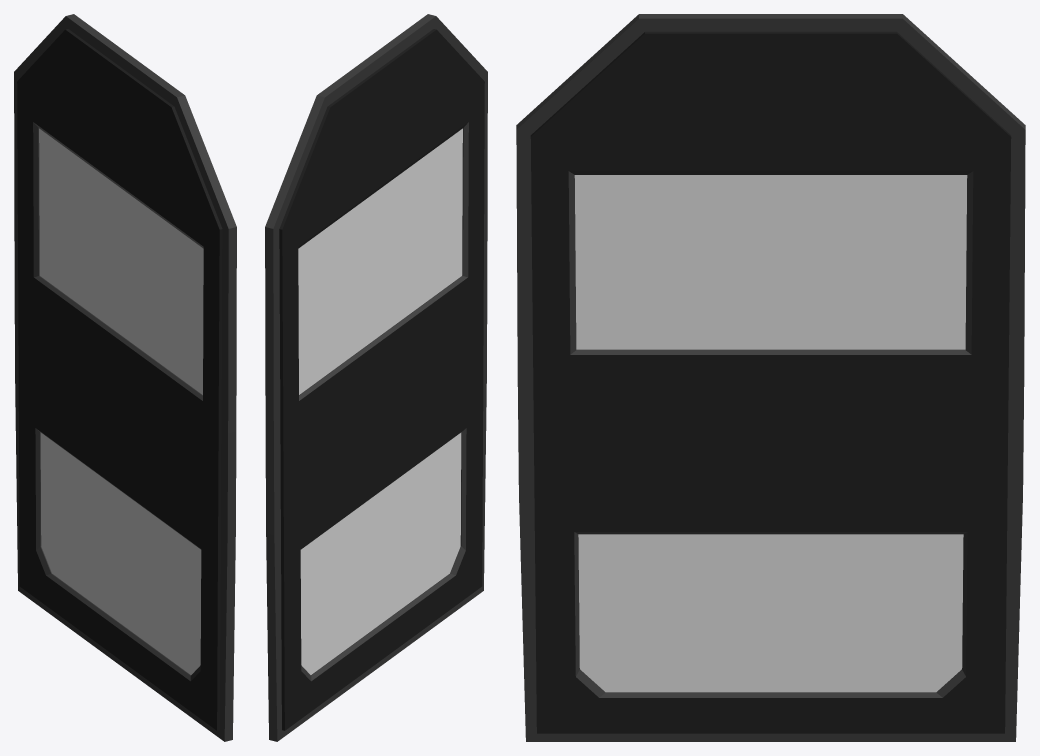
The model's file is Door_1_Inside.fbx.
3 renders of one model, left to right at view 1: azimuth 30°, elevation 25°; view 2: azimuth 150°, elevation 25°; view 3: azimuth 270°, elevation 25°, orthographic. The views are drawn at different scales.
Visible parts, largest first — view 1: Door_1_Inside; view 2: Door_1_Inside; view 3: Door_1_Inside.
Part boxes in pixels (x1=…): Door_1_Inside: x1=14, y1=14, x2=236, y2=741; Door_1_Inside: x1=265, y1=14, x2=487, y2=741; Door_1_Inside: x1=516, y1=14, x2=1025, y2=741.
Size of the model in its own units: 4.54 by 186 by 119.
